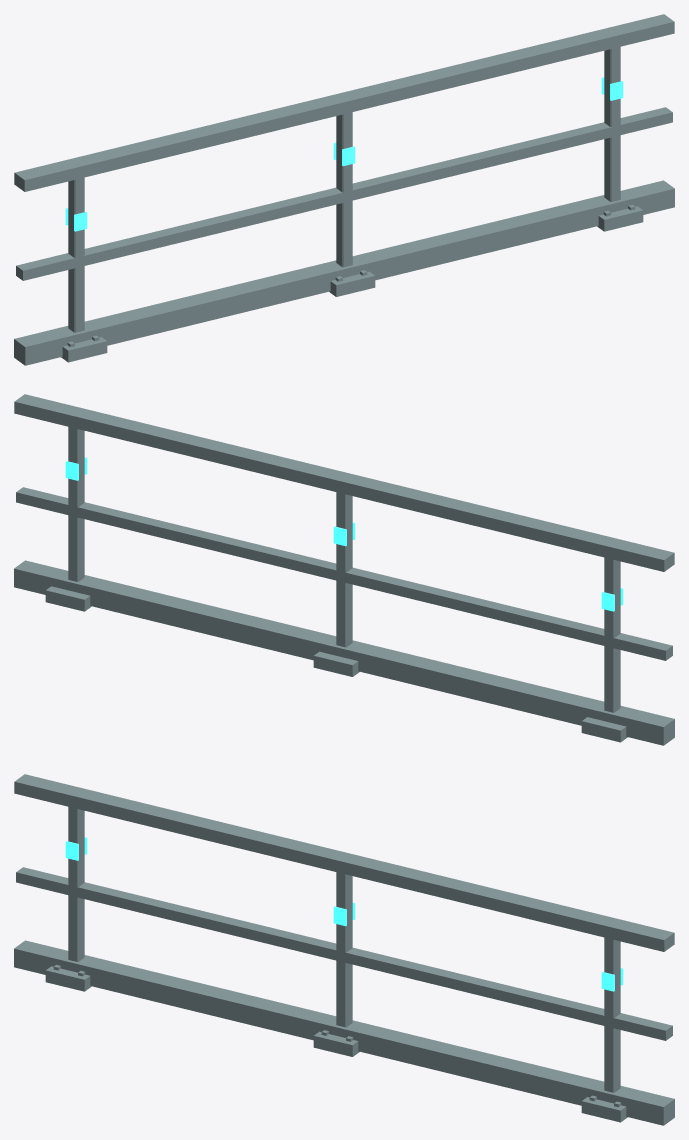
The model's file is RoadPlan_Parapet_L4.glb.
3 views of the same model, one above another, from view 1: azimuth 30°, elevation 25°; view 2: azimuth 150°, elevation 25°; view 3: azimuth 330°, elevation 25° (orthographic).
Visible parts, largest first — view 1: RoadPlan_Parapet_L4_ToeRail, RoadPlan_Parapet_L4_TopRail, RoadPlan_Parapet_L4_MidRail, RoadPlan_Parapet_L4_Upright_1, RoadPlan_Parapet_L4_Upright_0, RoadPlan_Parapet_L4_Upright_2; view 2: RoadPlan_Parapet_L4_ToeRail, RoadPlan_Parapet_L4_TopRail, RoadPlan_Parapet_L4_MidRail, RoadPlan_Parapet_L4_Upright_1, RoadPlan_Parapet_L4_Upright_0, RoadPlan_Parapet_L4_Upright_2; view 3: RoadPlan_Parapet_L4_ToeRail, RoadPlan_Parapet_L4_TopRail, RoadPlan_Parapet_L4_MidRail, RoadPlan_Parapet_L4_Upright_1, RoadPlan_Parapet_L4_Upright_2, RoadPlan_Parapet_L4_Upright_0.
Boxes of the visible parts, x1=… form: RoadPlan_Parapet_L4_ToeRail: x1=14, y1=180, x2=674, y2=365; RoadPlan_Parapet_L4_TopRail: x1=14, y1=14, x2=674, y2=191; RoadPlan_Parapet_L4_MidRail: x1=16, y1=107, x2=672, y2=280; RoadPlan_Parapet_L4_Upright_1: x1=329, y1=112, x2=375, y2=296; RoadPlan_Parapet_L4_Upright_0: x1=61, y1=177, x2=107, y2=362; RoadPlan_Parapet_L4_Upright_2: x1=597, y1=47, x2=643, y2=231; RoadPlan_Parapet_L4_ToeRail: x1=14, y1=560, x2=674, y2=745; RoadPlan_Parapet_L4_TopRail: x1=14, y1=394, x2=674, y2=571; RoadPlan_Parapet_L4_MidRail: x1=16, y1=487, x2=672, y2=660; RoadPlan_Parapet_L4_Upright_1: x1=313, y1=492, x2=359, y2=676; RoadPlan_Parapet_L4_Upright_0: x1=581, y1=557, x2=627, y2=742; RoadPlan_Parapet_L4_Upright_2: x1=45, y1=427, x2=91, y2=611; RoadPlan_Parapet_L4_ToeRail: x1=14, y1=940, x2=674, y2=1125; RoadPlan_Parapet_L4_TopRail: x1=14, y1=774, x2=674, y2=951; RoadPlan_Parapet_L4_MidRail: x1=16, y1=867, x2=672, y2=1040; RoadPlan_Parapet_L4_Upright_1: x1=313, y1=872, x2=359, y2=1056; RoadPlan_Parapet_L4_Upright_2: x1=581, y1=937, x2=627, y2=1122; RoadPlan_Parapet_L4_Upright_0: x1=45, y1=807, x2=91, y2=991.
Bounding box in the file's own units: 4 × 1.1 × 0.24.
